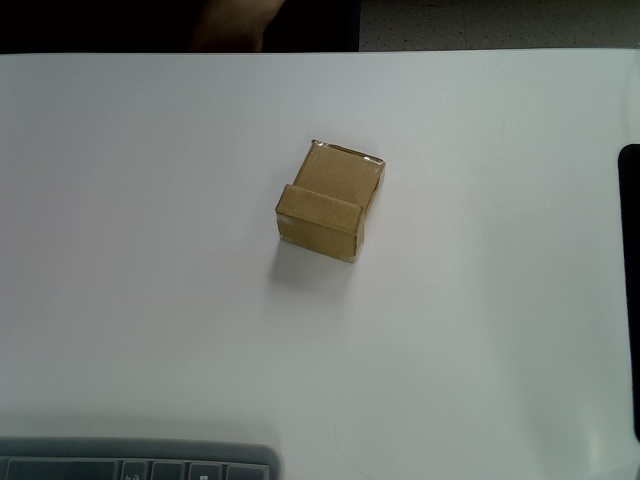normal: (294, 139, 386, 221), (275, 185, 364, 265)
